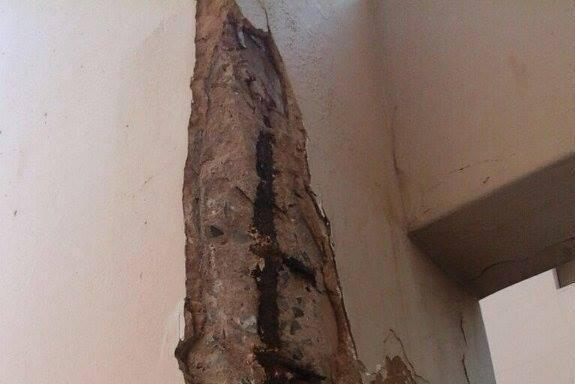Exposed reinforcement: (251, 115, 289, 384), (249, 242, 318, 291), (251, 346, 327, 384)
Spalling: (174, 1, 369, 384), (369, 328, 429, 384)
